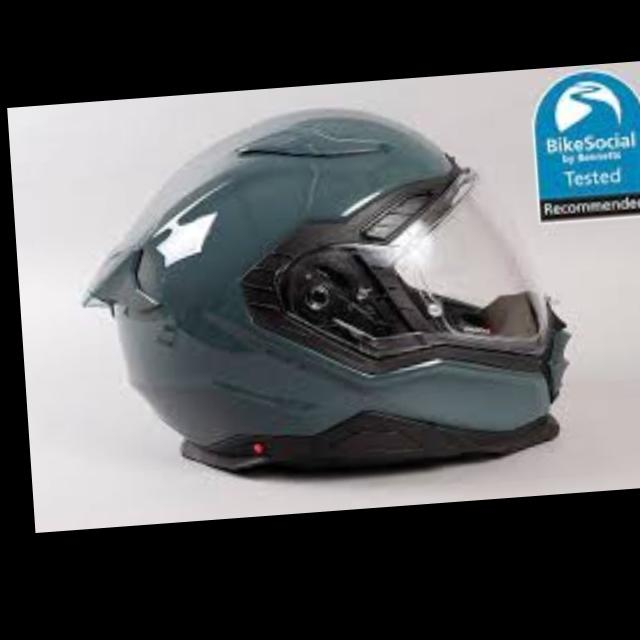motorcycle-helmets: (83, 107, 567, 469)
